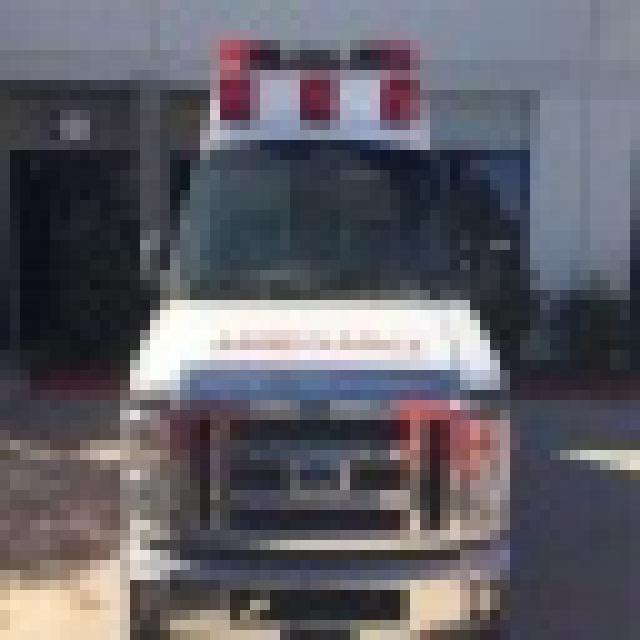Ambulance: (110, 30, 520, 630)
